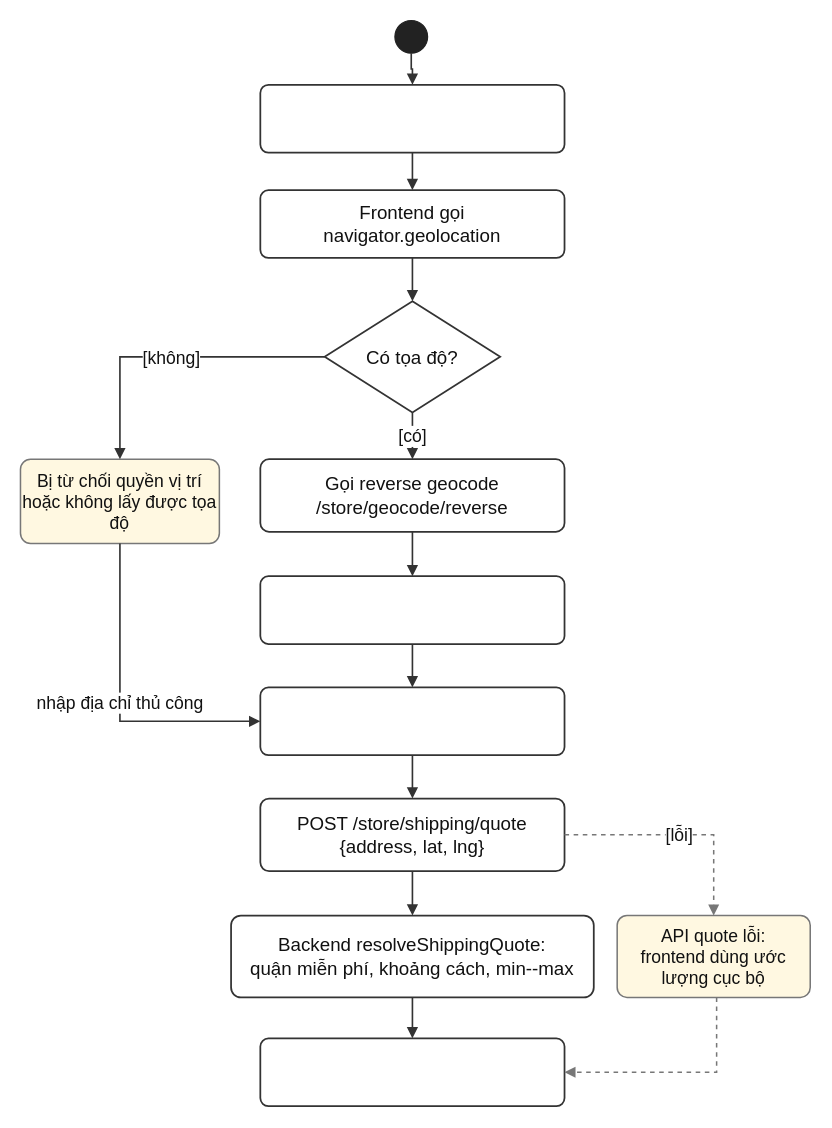
The diagram is 832 pixels wide and 1128 high, and some of its shapes have lost their labels. The centre of each missing label's shape, as x and y in pixels:
Cập nhật form: address, lat, lng: point (412, 609)
Debounce 300 ms khi địa chỉ/tọa độ đổi: point (412, 721)
Frontend hiển thị phí giao hàng và nguồn tính: point (412, 1072)
Người dùng chọn “Dùng vị trí hiện tại”: point (412, 118)
